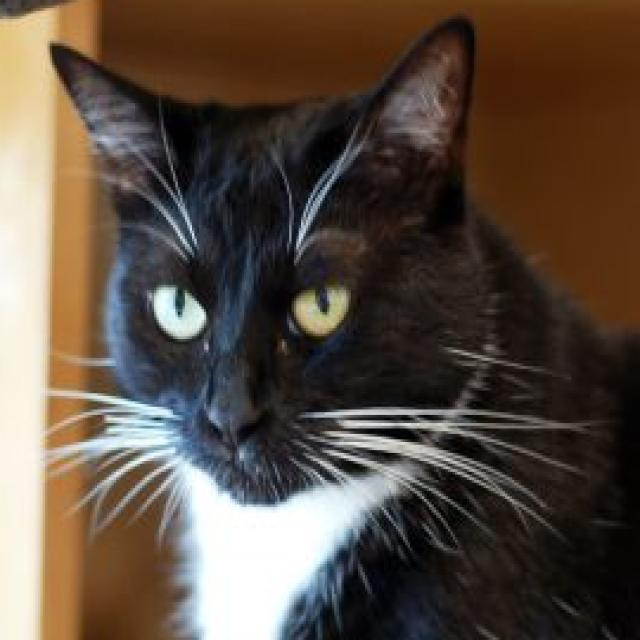Tuxedo: (40, 11, 640, 640)
